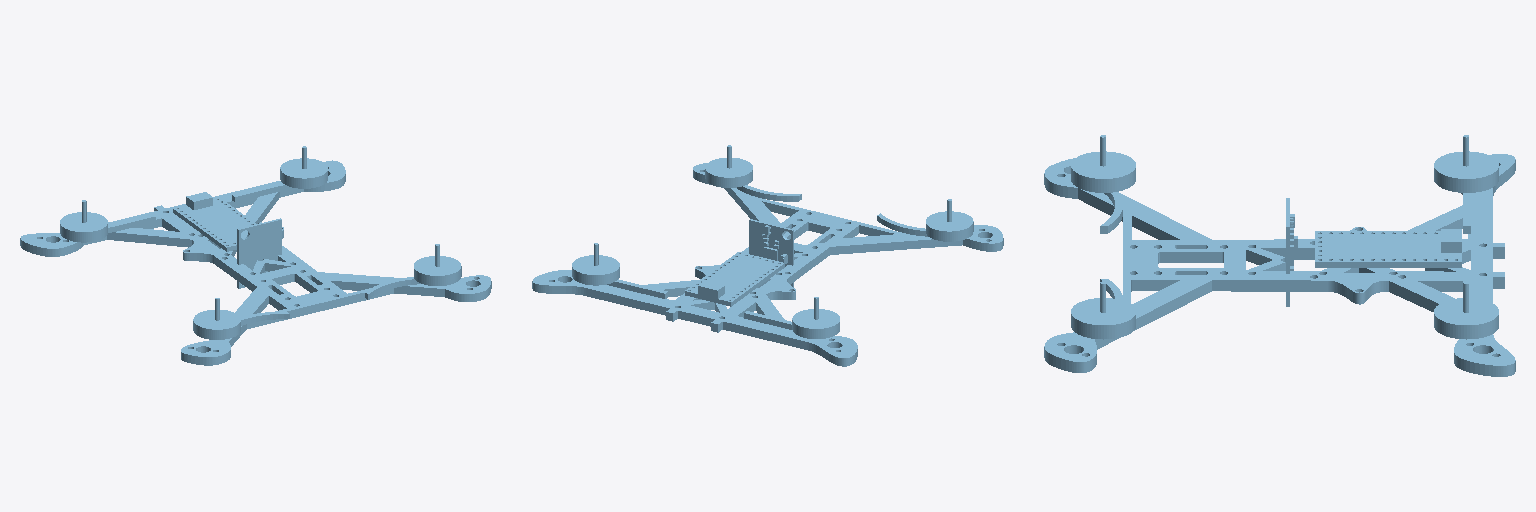
The robot description file, URDF, robot "Hardware":
<?xml version="1.0" ?>
<!-- Generated using onshape-to-robot -->
<!-- Onshape https://cad.onshape.com/documents/8c10e389dda3d1b6cbe23871/w/5a5746d77355e6e80cdff190/e/a8c47972b1a515a86b80b7ad -->
<robot name="Hardware">
  <!-- Link base_link -->
  <link name="base_link">
    <inertial>
      <origin xyz="0 0 0" rpy="0 0 0"/>
      <mass value="1e-09"/>
      <inertia ixx="1e-09" ixy="0" ixz="0" iyy="1e-09" iyz="0" izz="1e-09"/>
    </inertial>
    <!-- Part front_wing -->
    <visual>
      <origin xyz="-0.0273957 0.043155 -0.00102686" rpy="0 -0 0"/>
      <geometry>
        <mesh filename="package://assets/front_wing.stl"/>
      </geometry>
      <material name="front_wing_material">
        <color rgba="0.615686 0.811765 0.929412 1"/>
      </material>
    </visual>
    <collision>
      <origin xyz="-0.0273957 0.043155 -0.00102686" rpy="0 -0 0"/>
      <geometry>
        <mesh filename="package://assets/front_wing.stl"/>
      </geometry>
    </collision>
    <!-- Part back_wing -->
    <visual>
      <origin xyz="-0.0273957 -0.044845 -0.00102686" rpy="0 -0 0"/>
      <geometry>
        <mesh filename="package://assets/back_wing.stl"/>
      </geometry>
      <material name="back_wing_material">
        <color rgba="0.615686 0.811765 0.929412 1"/>
      </material>
    </visual>
    <collision>
      <origin xyz="-0.0273957 -0.044845 -0.00102686" rpy="0 -0 0"/>
      <geometry>
        <mesh filename="package://assets/back_wing.stl"/>
      </geometry>
    </collision>
    <!-- Part back_wing_2 -->
    <visual>
      <origin xyz="0.0276043 -0.044845 0.000973139" rpy="3.14159 -0 -3.14159"/>
      <geometry>
        <mesh filename="package://assets/back_wing.stl"/>
      </geometry>
      <material name="back_wing_2_material">
        <color rgba="0.615686 0.811765 0.929412 1"/>
      </material>
    </visual>
    <collision>
      <origin xyz="0.0276043 -0.044845 0.000973139" rpy="3.14159 -0 -3.14159"/>
      <geometry>
        <mesh filename="package://assets/back_wing.stl"/>
      </geometry>
    </collision>
    <!-- Part imu -->
    <visual>
      <origin xyz="0.000104278 -0.000821809 0.000973139" rpy="0 -0 0"/>
      <geometry>
        <mesh filename="package://assets/imu.stl"/>
      </geometry>
      <material name="imu_material">
        <color rgba="0.615686 0.811765 0.929412 1"/>
      </material>
    </visual>
    <collision>
      <origin xyz="0.000104278 -0.000821809 0.000973139" rpy="0 -0 0"/>
      <geometry>
        <mesh filename="package://assets/imu.stl"/>
      </geometry>
    </collision>
    <!-- Part base_link -->
    <visual>
      <origin xyz="0.000104278 -0.000957702 -0.00102686" rpy="0 -0 0"/>
      <geometry>
        <mesh filename="package://assets/base_link.stl"/>
      </geometry>
      <material name="base_link_material">
        <color rgba="0.615686 0.811765 0.929412 1"/>
      </material>
    </visual>
    <collision>
      <origin xyz="0.000104278 -0.000957702 -0.00102686" rpy="0 -0 0"/>
      <geometry>
        <mesh filename="package://assets/base_link.stl"/>
      </geometry>
    </collision>
    <!-- Part mcu -->
    <visual>
      <origin xyz="0.000104278 0.0240713 0.000973139" rpy="0 -0 0"/>
      <geometry>
        <mesh filename="package://assets/mcu.stl"/>
      </geometry>
      <material name="mcu_material">
        <color rgba="0.615686 0.811765 0.929412 1"/>
      </material>
    </visual>
    <collision>
      <origin xyz="0.000104278 0.0240713 0.000973139" rpy="0 -0 0"/>
      <geometry>
        <mesh filename="package://assets/mcu.stl"/>
      </geometry>
    </collision>
    <!-- Part front_wing_2 -->
    <visual>
      <origin xyz="0.0276043 0.043155 0.000973139" rpy="3.14159 -0 -3.14159"/>
      <geometry>
        <mesh filename="package://assets/front_wing.stl"/>
      </geometry>
      <material name="front_wing_2_material">
        <color rgba="0.615686 0.811765 0.929412 1"/>
      </material>
    </visual>
    <collision>
      <origin xyz="0.0276043 0.043155 0.000973139" rpy="3.14159 -0 -3.14159"/>
      <geometry>
        <mesh filename="package://assets/front_wing.stl"/>
      </geometry>
    </collision>
    <!-- Part motor -->
    <visual>
      <origin xyz="-0.0418957 0.0430423 0.000973139" rpy="7.94093e-23 7.94093e-23 -7.34786e-17"/>
      <geometry>
        <mesh filename="package://assets/motor.stl"/>
      </geometry>
      <material name="motor_material">
        <color rgba="0.615686 0.811765 0.929412 1"/>
      </material>
    </visual>
    <collision>
      <origin xyz="-0.0418957 0.0430423 0.000973139" rpy="7.94093e-23 7.94093e-23 -7.34786e-17"/>
      <geometry>
        <mesh filename="package://assets/motor.stl"/>
      </geometry>
    </collision>
    <!-- Part propeller -->
    <visual>
      <origin xyz="-0.0418957 0.0430423 0.00297314" rpy="3.14159 -7.94093e-23 1.42203e-07"/>
      <geometry>
        <mesh filename="package://assets/propeller.stl"/>
      </geometry>
      <material name="propeller_material">
        <color rgba="0.615686 0.811765 0.929412 1"/>
      </material>
    </visual>
    <collision>
      <origin xyz="-0.0418957 0.0430423 0.00297314" rpy="3.14159 -7.94093e-23 1.42203e-07"/>
      <geometry>
        <mesh filename="package://assets/propeller.stl"/>
      </geometry>
    </collision>
    <!-- Part motor_2 -->
    <visual>
      <origin xyz="0.0421043 -0.0449577 0.000973139" rpy="0 -0 1.77415e-16"/>
      <geometry>
        <mesh filename="package://assets/motor.stl"/>
      </geometry>
      <material name="motor_2_material">
        <color rgba="0.615686 0.811765 0.929412 1"/>
      </material>
    </visual>
    <collision>
      <origin xyz="0.0421043 -0.0449577 0.000973139" rpy="0 -0 1.77415e-16"/>
      <geometry>
        <mesh filename="package://assets/motor.stl"/>
      </geometry>
    </collision>
    <!-- Part propeller_2 -->
    <visual>
      <origin xyz="0.0421043 -0.0449577 0.00297314" rpy="3.14159 -0 0"/>
      <geometry>
        <mesh filename="package://assets/propeller.stl"/>
      </geometry>
      <material name="propeller_2_material">
        <color rgba="0.615686 0.811765 0.929412 1"/>
      </material>
    </visual>
    <collision>
      <origin xyz="0.0421043 -0.0449577 0.00297314" rpy="3.14159 -0 0"/>
      <geometry>
        <mesh filename="package://assets/propeller.stl"/>
      </geometry>
    </collision>
    <!-- Part propeller_3 -->
    <visual>
      <origin xyz="-0.0418957 -0.0449577 0.00297314" rpy="3.14159 -0 0"/>
      <geometry>
        <mesh filename="package://assets/propeller.stl"/>
      </geometry>
      <material name="propeller_3_material">
        <color rgba="0.615686 0.811765 0.929412 1"/>
      </material>
    </visual>
    <collision>
      <origin xyz="-0.0418957 -0.0449577 0.00297314" rpy="3.14159 -0 0"/>
      <geometry>
        <mesh filename="package://assets/propeller.stl"/>
      </geometry>
    </collision>
    <!-- Part motor_3 -->
    <visual>
      <origin xyz="-0.0418957 -0.0449577 0.000973139" rpy="0 -0 0"/>
      <geometry>
        <mesh filename="package://assets/motor.stl"/>
      </geometry>
      <material name="motor_3_material">
        <color rgba="0.615686 0.811765 0.929412 1"/>
      </material>
    </visual>
    <collision>
      <origin xyz="-0.0418957 -0.0449577 0.000973139" rpy="0 -0 0"/>
      <geometry>
        <mesh filename="package://assets/motor.stl"/>
      </geometry>
    </collision>
    <!-- Part motor_4 -->
    <visual>
      <origin xyz="0.0421043 0.0430423 0.000973139" rpy="0 -0 1.77415e-16"/>
      <geometry>
        <mesh filename="package://assets/motor.stl"/>
      </geometry>
      <material name="motor_4_material">
        <color rgba="0.615686 0.811765 0.929412 1"/>
      </material>
    </visual>
    <collision>
      <origin xyz="0.0421043 0.0430423 0.000973139" rpy="0 -0 1.77415e-16"/>
      <geometry>
        <mesh filename="package://assets/motor.stl"/>
      </geometry>
    </collision>
    <!-- Part propeller_4 -->
    <visual>
      <origin xyz="0.0421043 0.0430423 0.00297314" rpy="3.14159 -0 0"/>
      <geometry>
        <mesh filename="package://assets/propeller.stl"/>
      </geometry>
      <material name="propeller_4_material">
        <color rgba="0.615686 0.811765 0.929412 1"/>
      </material>
    </visual>
    <collision>
      <origin xyz="0.0421043 0.0430423 0.00297314" rpy="3.14159 -0 0"/>
      <geometry>
        <mesh filename="package://assets/propeller.stl"/>
      </geometry>
    </collision>
  </link>
</robot>

--- What the picture shows (computed from the rendered views, not written in the file) ---
The picture shows the robot from 3 angles, left to right: view 1: azimuth 30°, elevation 25°; view 2: azimuth 150°, elevation 25°; view 3: azimuth 270°, elevation 25°; orthographic projection.
Model Hardware with 1 links and 0 joints (none), rooted at base_link, posed every joint at zero.
Visible links, largest first — view 1: base_link; view 2: base_link; view 3: base_link.
Boxes of the visible links, x1,y1,x2,y2 form: base_link: (20,146,491,365); base_link: (532,145,1003,366); base_link: (1044,135,1515,376).
Bounding box of the posed robot: 0.1215 × 0.1142 × 0.0223 m (x, y, z).
Meshes: 7 distinct files referenced, 15 mesh visuals loaded (7 binary STL).
